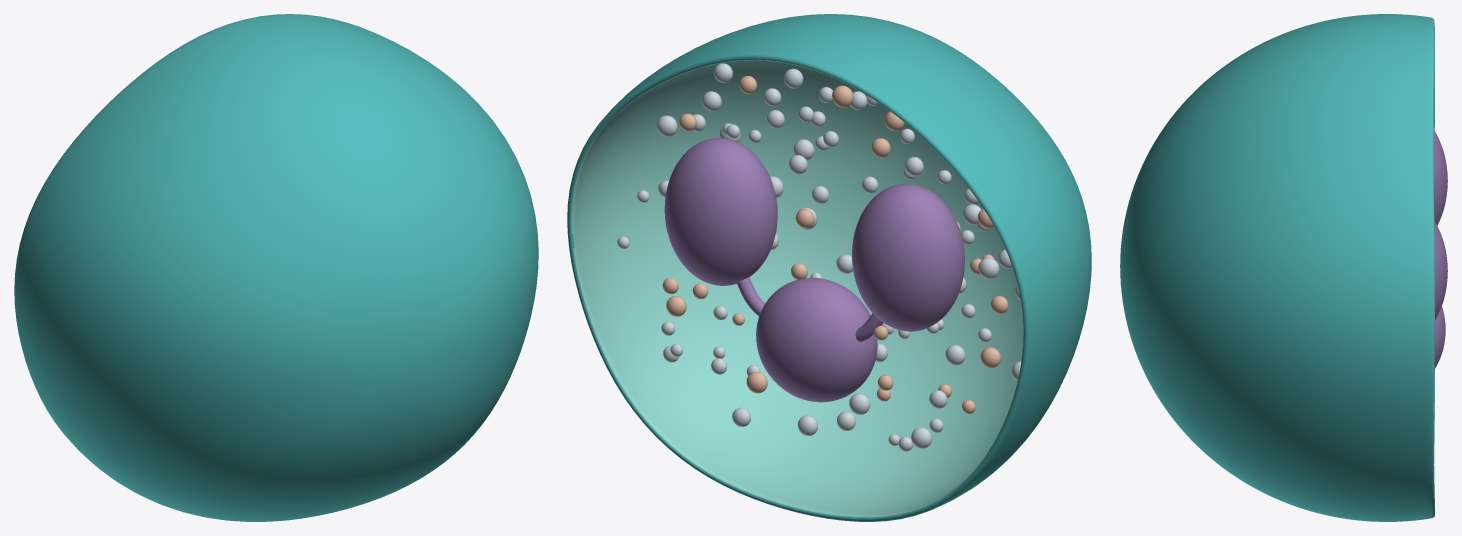
The model's file is neutrophil.glb.
The picture shows the model from 3 angles, left to right: view 1: azimuth 30°, elevation 25°; view 2: azimuth 150°, elevation 25°; view 3: azimuth 270°, elevation 25°; orthographic projection.
Visible parts, largest first — view 1: Membrane; view 2: Membrane, Nucleus_lobe_0, Nucleus_lobe_2, Granules_blue, Nucleus_lobe_1, Granules_gold; view 3: Membrane, Nucleus_lobe_0, Nucleus_lobe_2, Nucleus_lobe_1.
Boxes of the visible parts, x1,y1,x2,y2 form: Membrane: (14, 14, 538, 521); Membrane: (567, 14, 1091, 521); Nucleus_lobe_0: (852, 183, 964, 331); Nucleus_lobe_2: (664, 138, 777, 285); Granules_blue: (617, 63, 1021, 451); Nucleus_lobe_1: (756, 278, 877, 402); Granules_gold: (662, 76, 1008, 413); Membrane: (1120, 14, 1434, 521); Nucleus_lobe_0: (1434, 130, 1447, 225); Nucleus_lobe_2: (1434, 221, 1447, 319); Nucleus_lobe_1: (1434, 306, 1445, 368).
Bounding box in the file's own units: 5.01 × 4.7 × 3.07.
